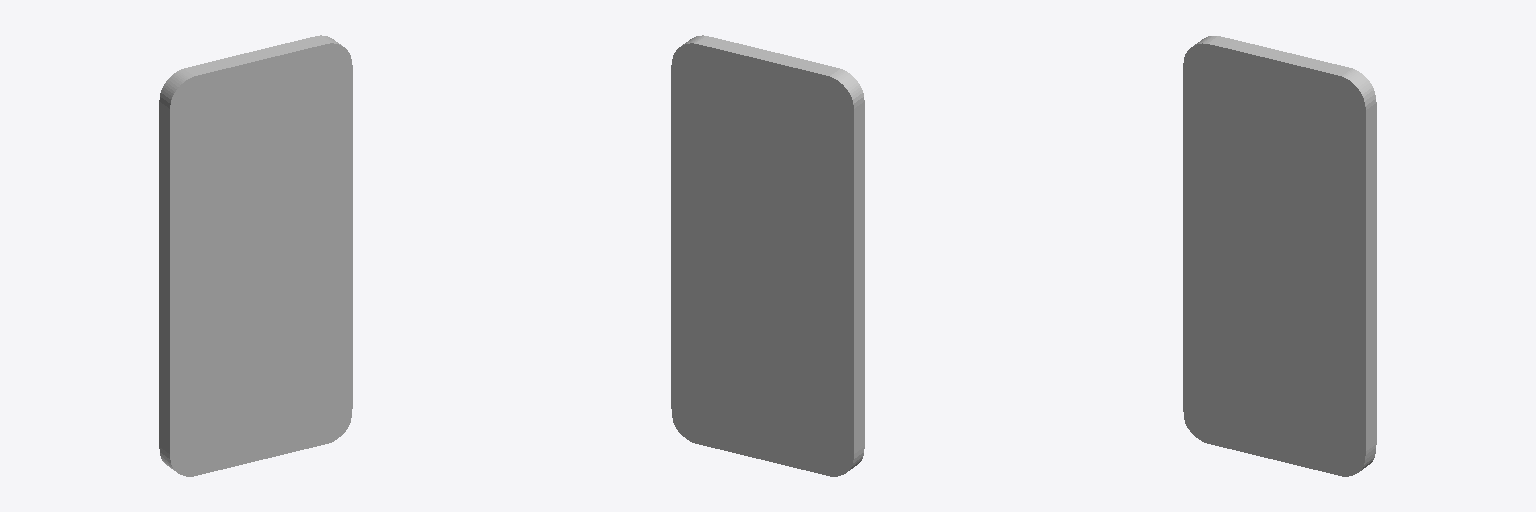
File: iPhone6_v2.obj
3 views of the same model, side by side, from view 1: azimuth 30°, elevation 25°; view 2: azimuth 150°, elevation 25°; view 3: azimuth 330°, elevation 25° (orthographic).
Visible parts, largest first — view 1: Cube.001; view 2: Cube.001; view 3: Cube.001.
Boxes of the visible parts, box(x1,y1,x2,y2) form: Cube.001: box(159, 35, 352, 476); Cube.001: box(671, 35, 864, 476); Cube.001: box(1183, 36, 1376, 476).
Size of the model in its own units: 3.73 by 7.81 by 0.3834.